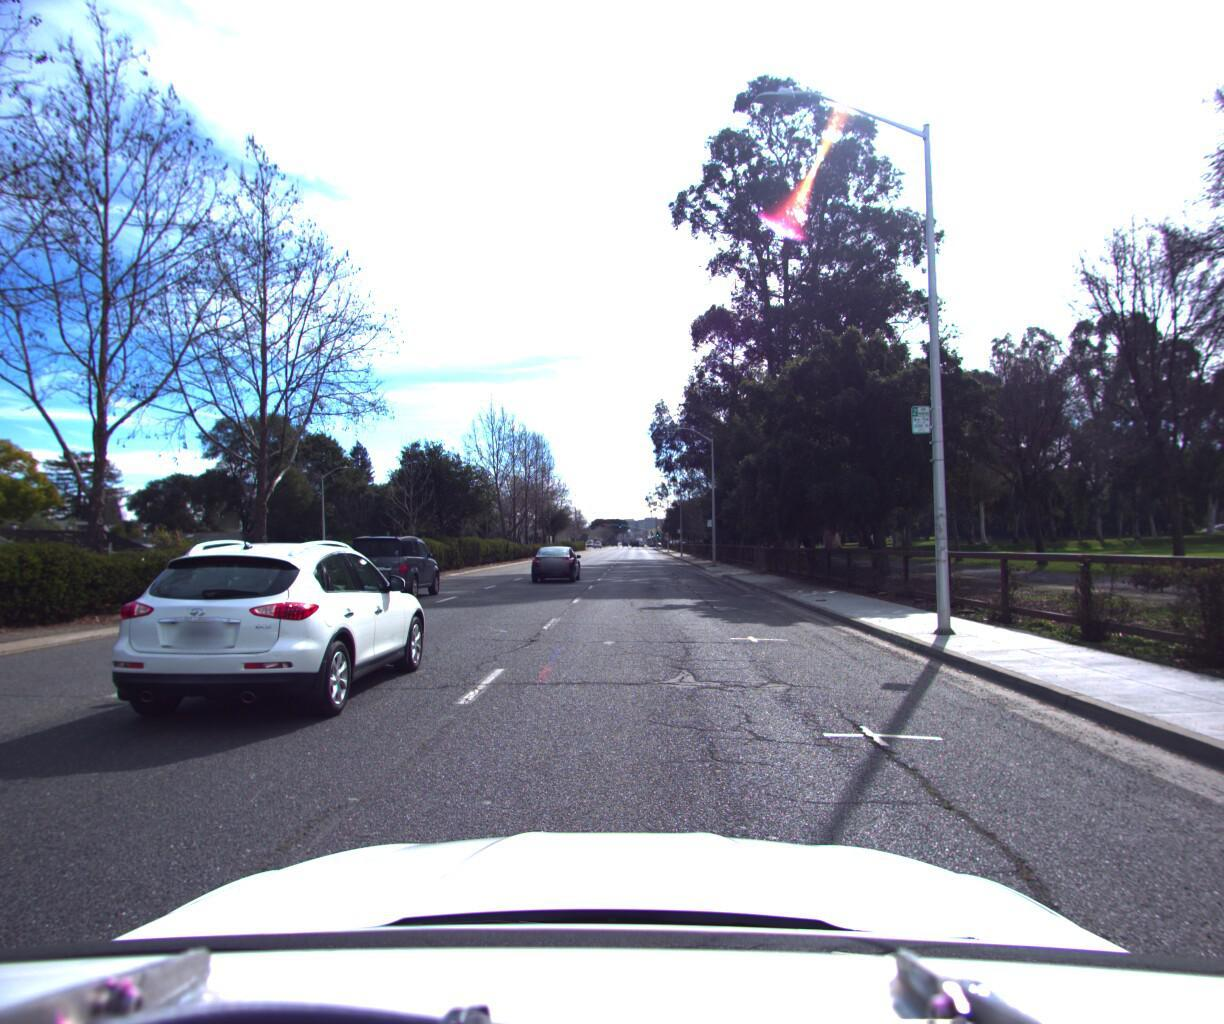car: (81, 528, 430, 734), (347, 534, 445, 601), (525, 538, 579, 579)
